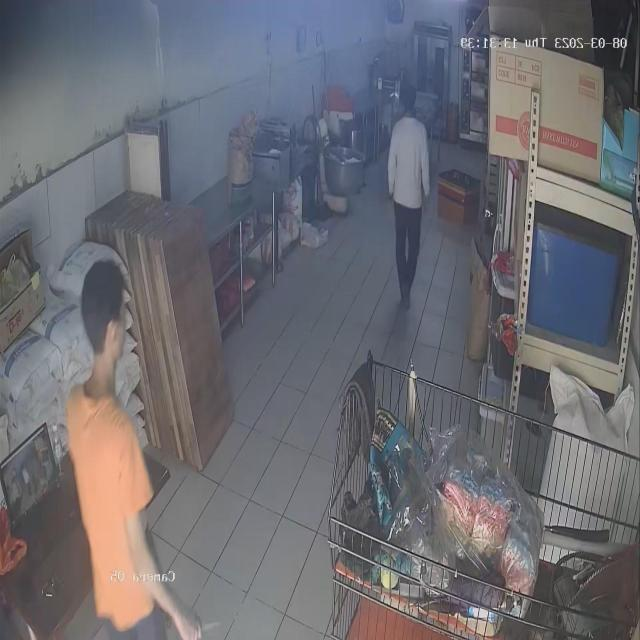Knife: (182, 601, 224, 636)
